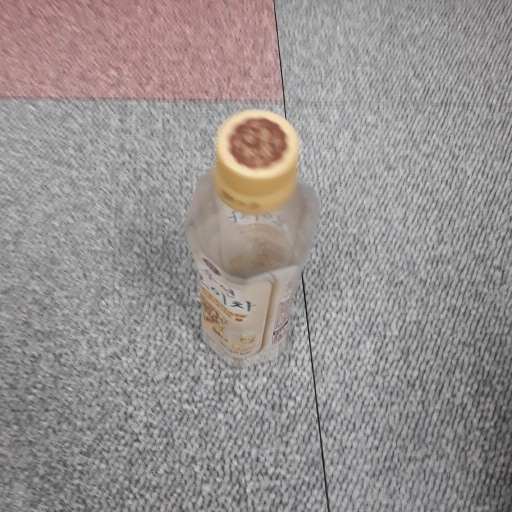Plastic_0: (186, 111, 318, 365)
